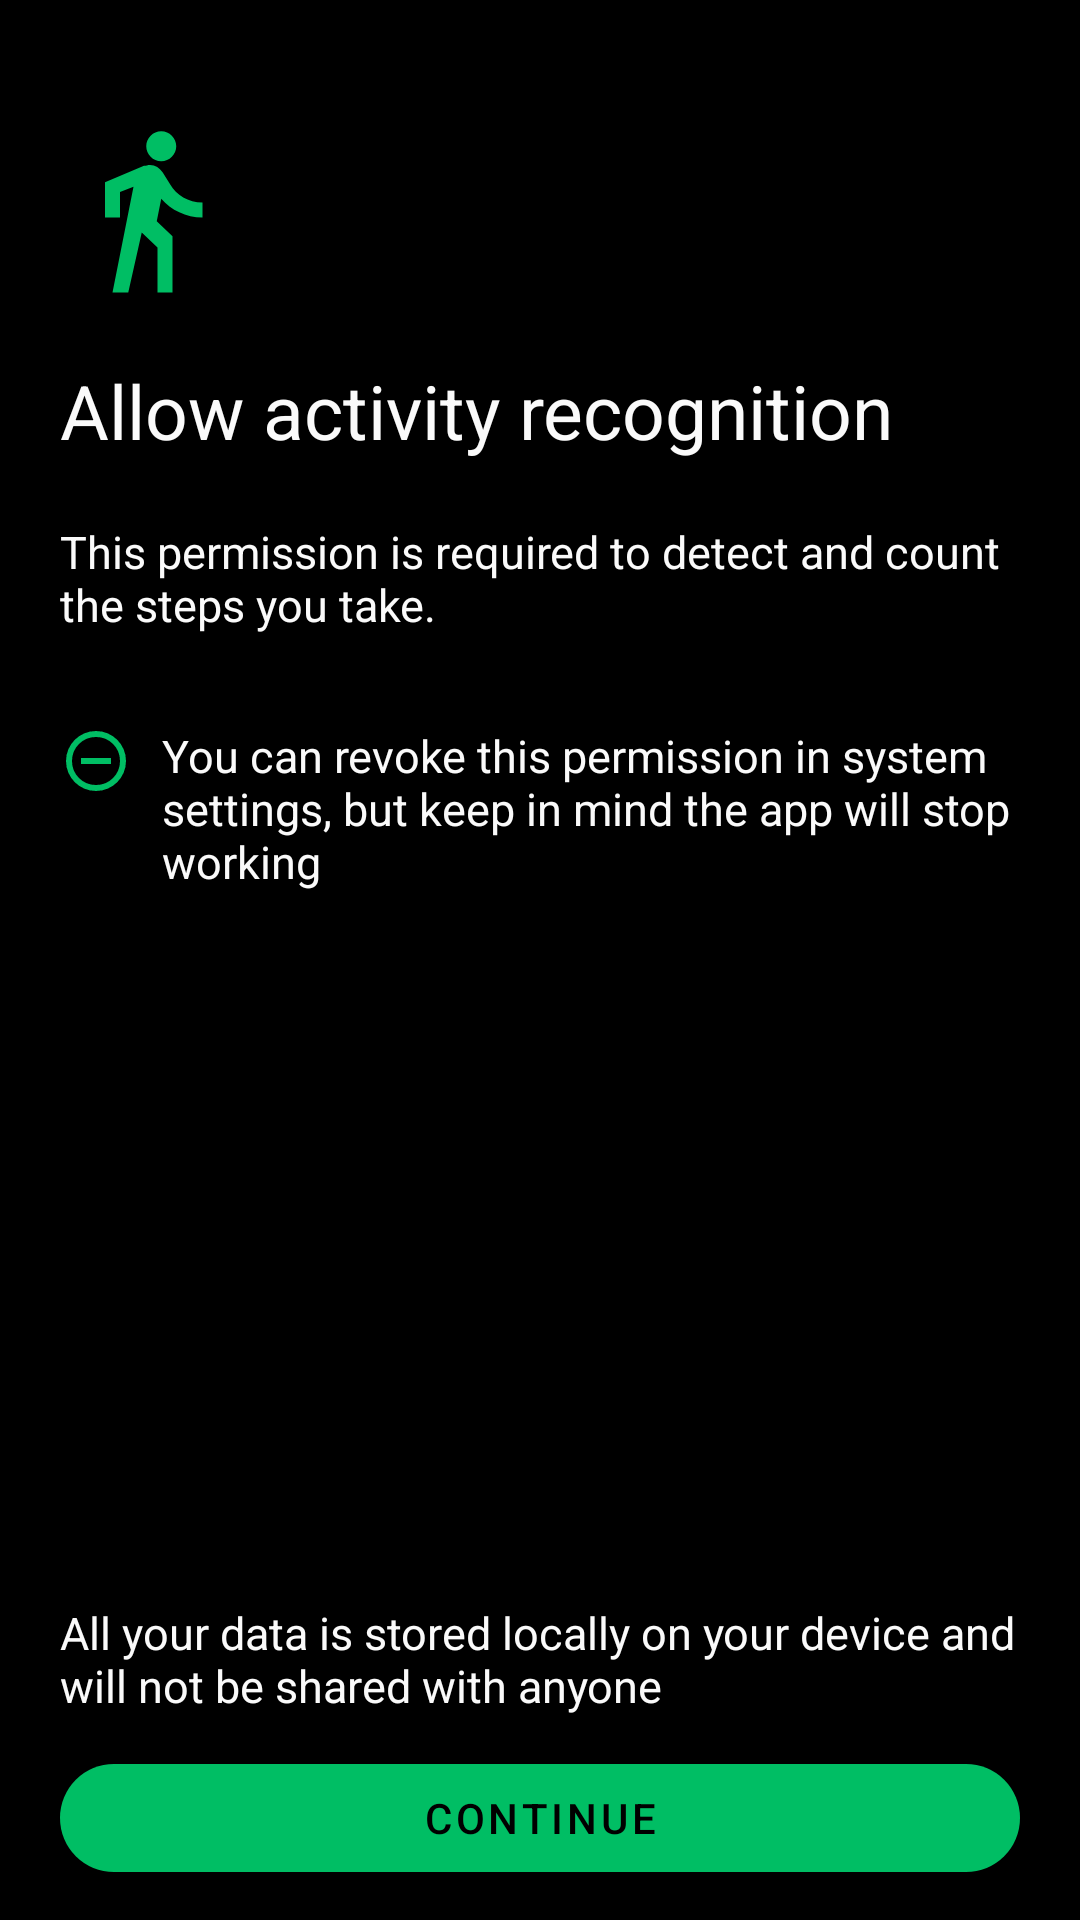

Icon click points for this 1080×1920 phone screenshot, format (x,y):
directions walk: (154,212)
do no disturb: (96,761)
